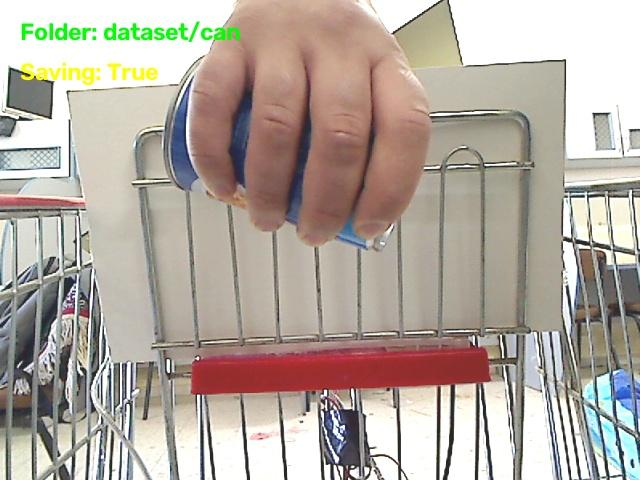can: (164, 59, 208, 194), (285, 116, 311, 225), (229, 92, 252, 207), (335, 216, 394, 251)
